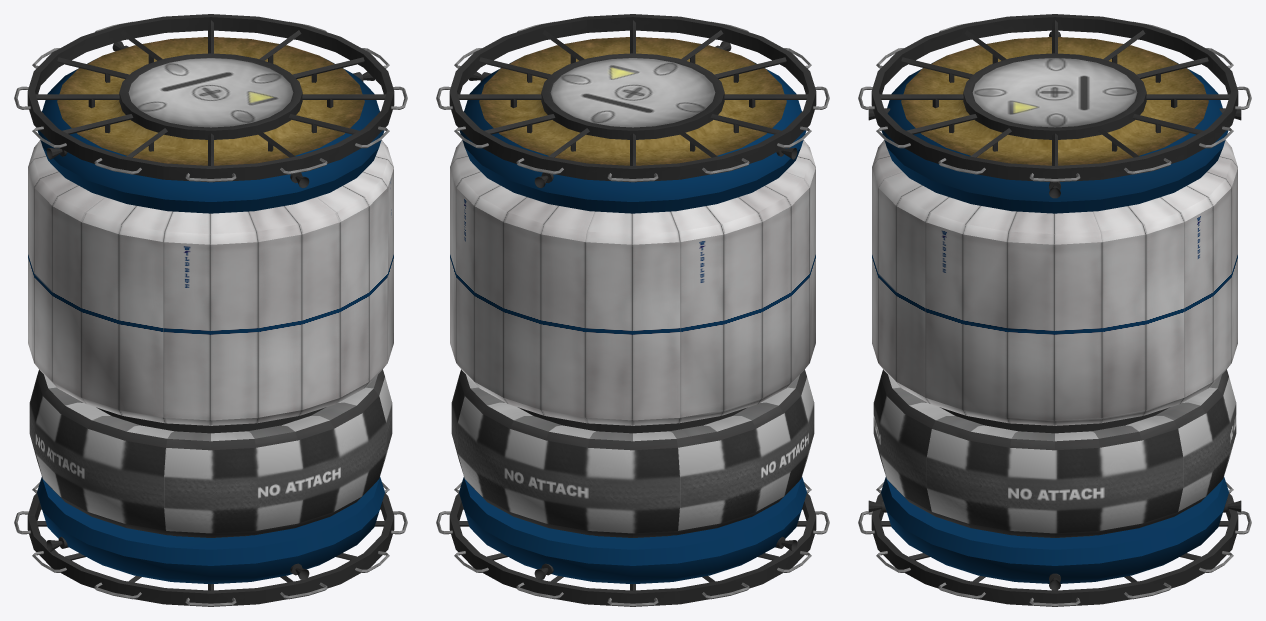
Rendered from CentrfugeHub.FBX.
The picture shows the model from 3 angles, left to right: view 1: azimuth 30°, elevation 25°; view 2: azimuth 150°, elevation 25°; view 3: azimuth 270°, elevation 25°; orthographic projection.
Parts seen in each view (by area): view 1: MainBody, EndCap001, CounterSpinSection, EndCap002, StructuralRing001, StructuralRing002, Cylinder002; view 2: MainBody, EndCap001, CounterSpinSection, EndCap002, StructuralRing001, StructuralRing002, Cylinder002; view 3: MainBody, EndCap001, CounterSpinSection, EndCap002, StructuralRing001, StructuralRing002, Cylinder002.
Part boxes in pixels (x1,y1,x2,y2): MainBody: (28,140,393,425); EndCap001: (37,37,384,213); CounterSpinSection: (29,369,392,537); EndCap002: (37,477,384,584); StructuralRing001: (27,14,394,182); StructuralRing002: (27,493,394,606); Cylinder002: (96,407,325,537); MainBody: (450,140,815,425); EndCap001: (459,37,806,213); CounterSpinSection: (451,369,814,537); EndCap002: (459,477,806,584); StructuralRing001: (449,14,816,182); StructuralRing002: (449,493,816,606); Cylinder002: (518,407,747,537); MainBody: (872,140,1237,425); EndCap001: (881,37,1228,213); CounterSpinSection: (873,369,1236,537); EndCap002: (881,477,1228,583); StructuralRing001: (871,14,1238,182); StructuralRing002: (871,493,1238,606); Cylinder002: (940,407,1169,537).
Size of what is drawn, in the model's own units: 2.68 by 2.68 by 3.29.
1 material, 1 textured.
